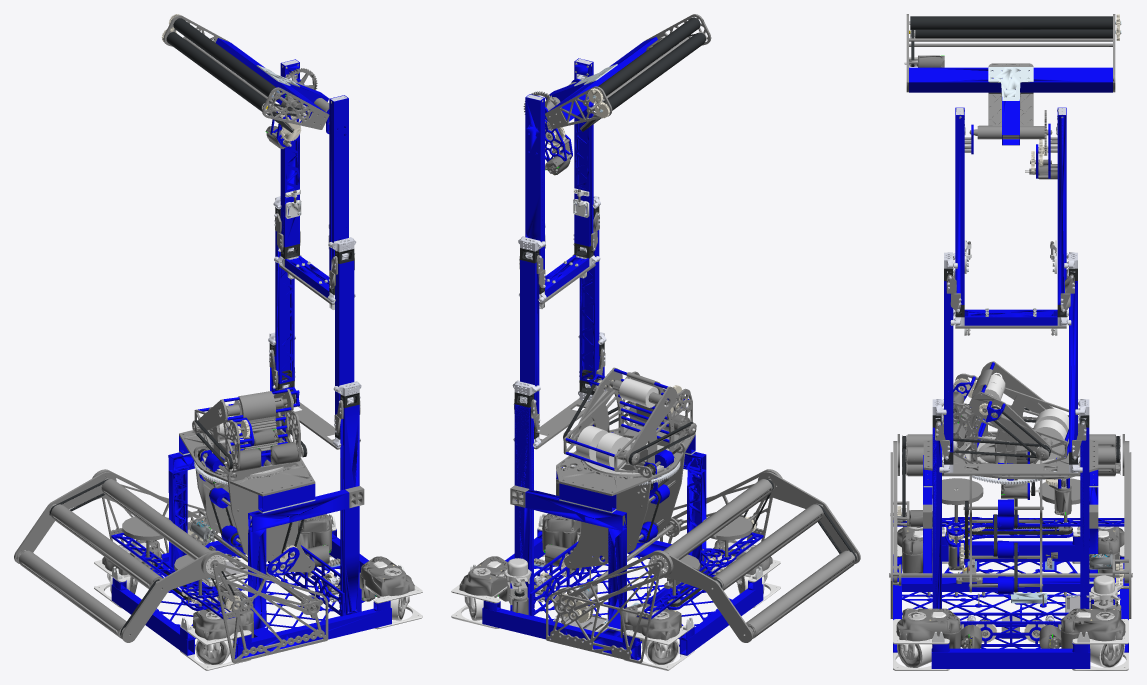
File: hero-poofs-254.glb
The picture shows the model from 3 angles, left to right: view 1: azimuth 30°, elevation 25°; view 2: azimuth 150°, elevation 25°; view 3: azimuth 270°, elevation 25°; orthographic projection. The views are drawn at different scales.
Parts seen in each view (by area): view 1: frame, intake, turret, stage3, stage2, claw, hood, claw-base; view 2: frame, intake, turret, stage3, stage2, claw, claw-base, hood; view 3: frame, claw, turret, stage3, intake, stage2, claw-base, hood, pad.
Part boxes in pixels (x1,y1,x2,y2): frame: [94, 356, 422, 670]; intake: [14, 469, 328, 663]; turret: [179, 386, 315, 513]; stage3: [273, 59, 356, 309]; stage2: [268, 231, 361, 449]; claw: [162, 14, 329, 129]; hood: [198, 391, 277, 451]; claw-base: [265, 68, 329, 148]; frame: [451, 356, 780, 670]; intake: [546, 469, 860, 663]; turret: [556, 367, 696, 513]; stage3: [518, 58, 600, 308]; stage2: [512, 230, 606, 449]; claw: [545, 14, 711, 128]; claw-base: [523, 78, 580, 175]; hood: [625, 372, 677, 464]; frame: [893, 423, 1128, 670]; claw: [904, 14, 1121, 145]; turret: [923, 362, 1098, 515]; stage3: [944, 107, 1077, 335]; intake: [889, 434, 1132, 618]; stage2: [932, 281, 1089, 475]; claw-base: [964, 110, 1057, 179]; hood: [966, 361, 1053, 436]; pad: [988, 63, 1033, 125].
Bounding box in the file's own units: 1.01 × 1.87 × 0.6816.
